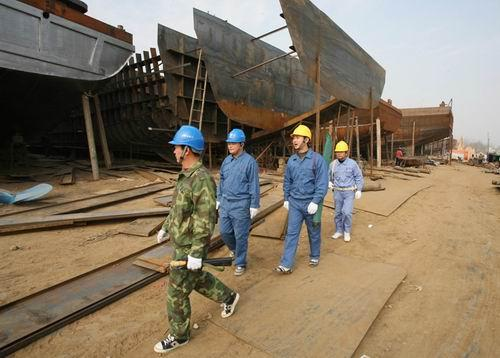boots: (154, 333, 189, 353), (221, 291, 240, 317), (272, 264, 293, 273), (234, 265, 245, 275), (332, 231, 343, 238), (309, 258, 319, 265), (344, 231, 350, 241)
gloves: (187, 254, 203, 271), (157, 229, 170, 244), (307, 201, 318, 214), (157, 229, 166, 243), (250, 208, 258, 219), (355, 189, 362, 199), (283, 200, 289, 211), (215, 200, 220, 210), (328, 181, 334, 189)
hard-hat: (168, 125, 205, 152), (290, 123, 312, 140), (224, 128, 246, 143), (334, 139, 349, 151)
person: (154, 124, 240, 353), (272, 124, 329, 273), (216, 128, 261, 276), (327, 140, 365, 242)
ppe-suit: (156, 161, 238, 339), (277, 148, 329, 267), (215, 151, 261, 268), (327, 156, 364, 233)
